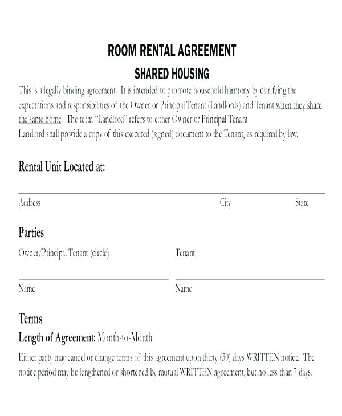textline: (18, 177, 330, 198), (174, 260, 327, 283), (20, 260, 170, 283)
